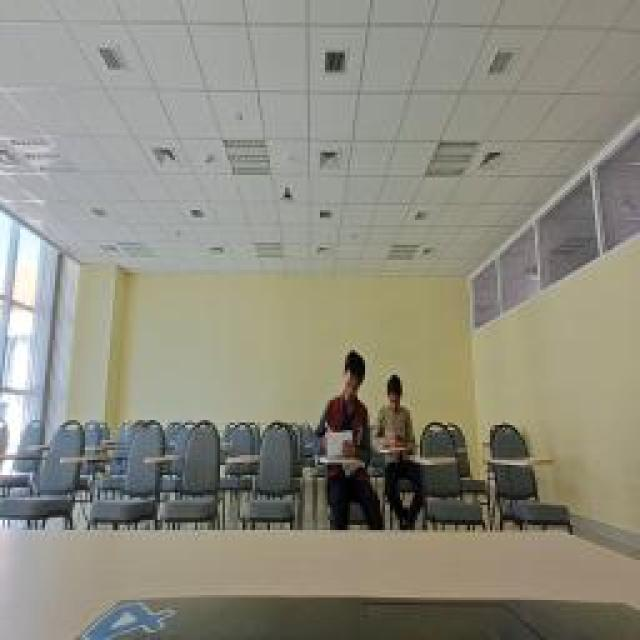phone: (372, 372, 418, 452)
study: (312, 350, 372, 460)
